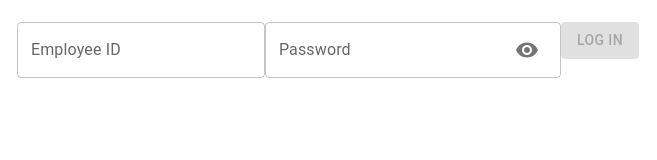
LoginForm › DOM test use fireEvent function: should enable login button when both user and password has value
Check: the button "Log In" is disabled, box x1=561 y1=22 x2=639 y2=58
Type "12345" into the field labelled "Employee ID" at coordinates (141, 50), box x1=17 y1=22 x2=265 y2=78
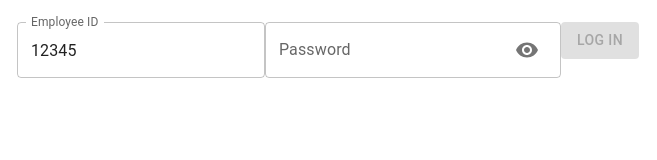
Type "secret" into the password field labelled "Password" at coordinates (382, 50), box x1=265 y1=22 x2=499 y2=78
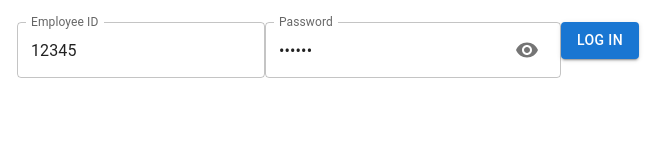
Check: the button "Log In" is enabled, box x1=561 y1=22 x2=639 y2=58
